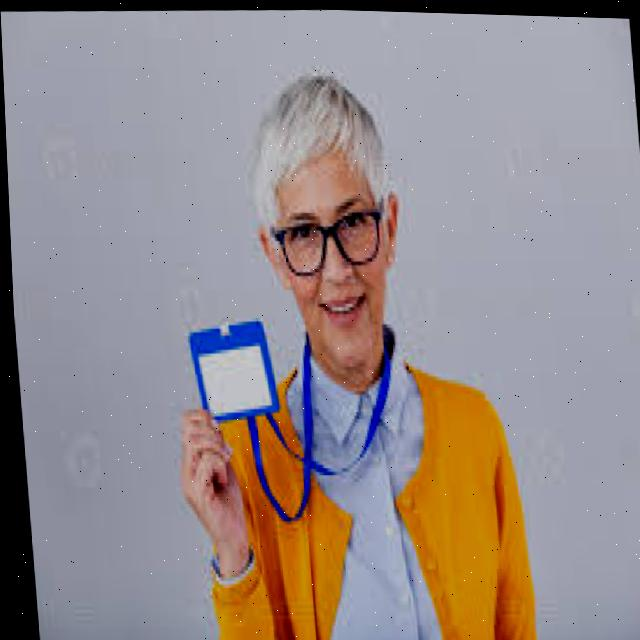id_card: (182, 304, 403, 531)
